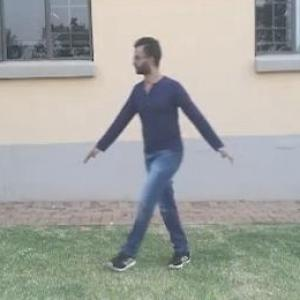land: (89, 50, 230, 236)
